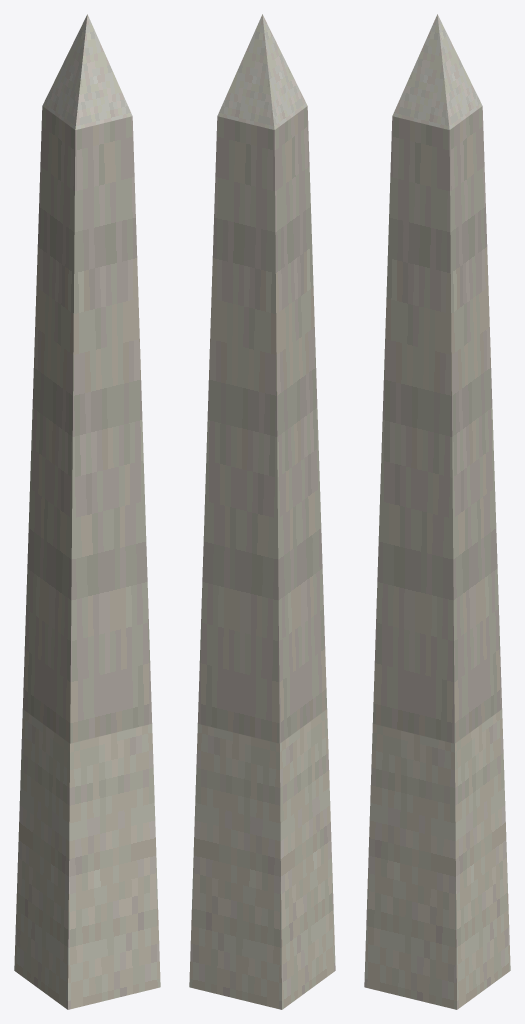
Rendered from monument.glb.
The picture shows the model from 3 angles, left to right: view 1: azimuth 30°, elevation 25°; view 2: azimuth 150°, elevation 25°; view 3: azimuth 330°, elevation 25°; orthographic projection.
Parts seen in each view (by area): view 1: Monument; view 2: Monument; view 3: Monument.
Boxes of the visible parts, bbox=[...] form: Monument: bbox=[14, 14, 160, 1009]; Monument: bbox=[189, 14, 335, 1009]; Monument: bbox=[364, 14, 510, 1009].
Size of the model in its own units: 17 by 169 by 17.
1 material, 1 textured.
